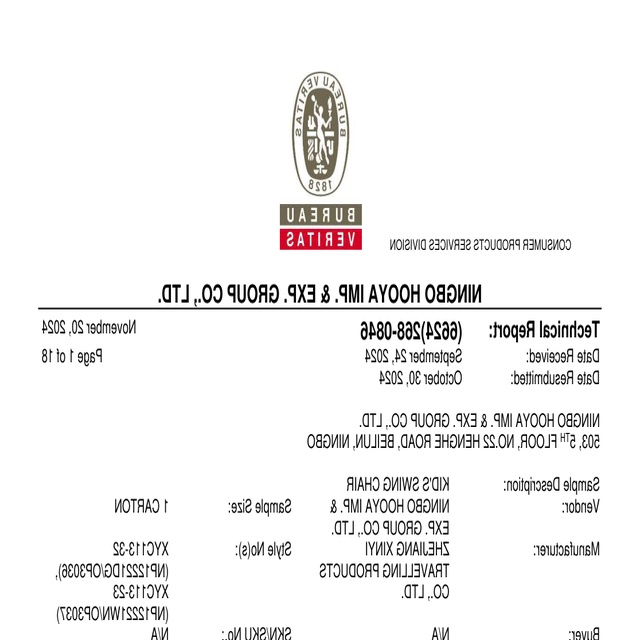bureau_veritas: (277, 74, 362, 252)
